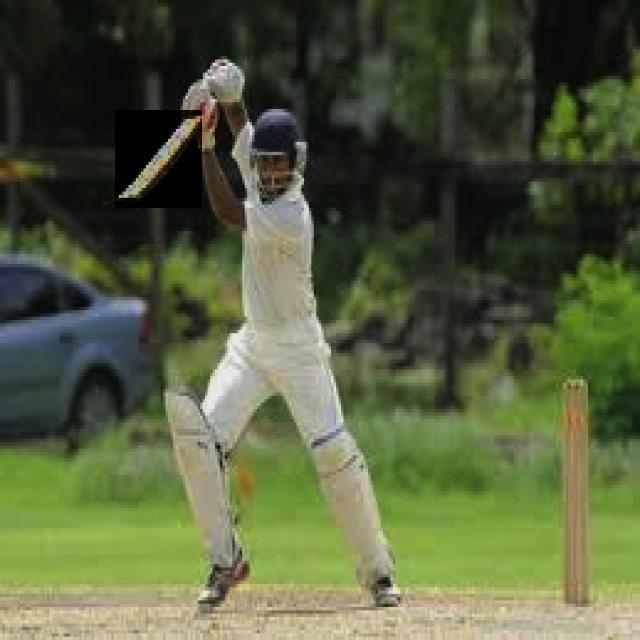bat: (117, 106, 205, 211)
toe: (115, 189, 148, 206)
